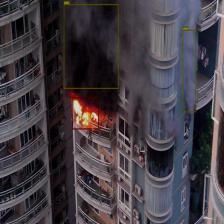fire: (72, 97, 98, 129)
smoke: (64, 4, 118, 89), (182, 30, 196, 112)
